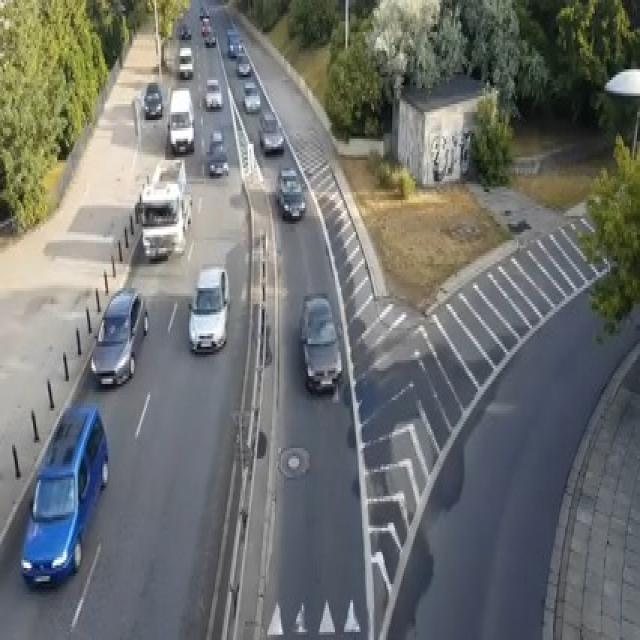car: (20, 400, 108, 589), (90, 285, 149, 387), (299, 291, 343, 392), (186, 264, 230, 352), (167, 85, 194, 152), (275, 168, 305, 219), (204, 128, 228, 176), (258, 109, 284, 152), (141, 80, 162, 117), (242, 80, 260, 112), (205, 78, 222, 110), (179, 46, 192, 78), (227, 32, 243, 56), (236, 53, 251, 75), (209, 128, 222, 149), (204, 30, 217, 46), (200, 16, 210, 35), (180, 22, 191, 38), (198, 5, 209, 19)
truck: (136, 158, 192, 262)
